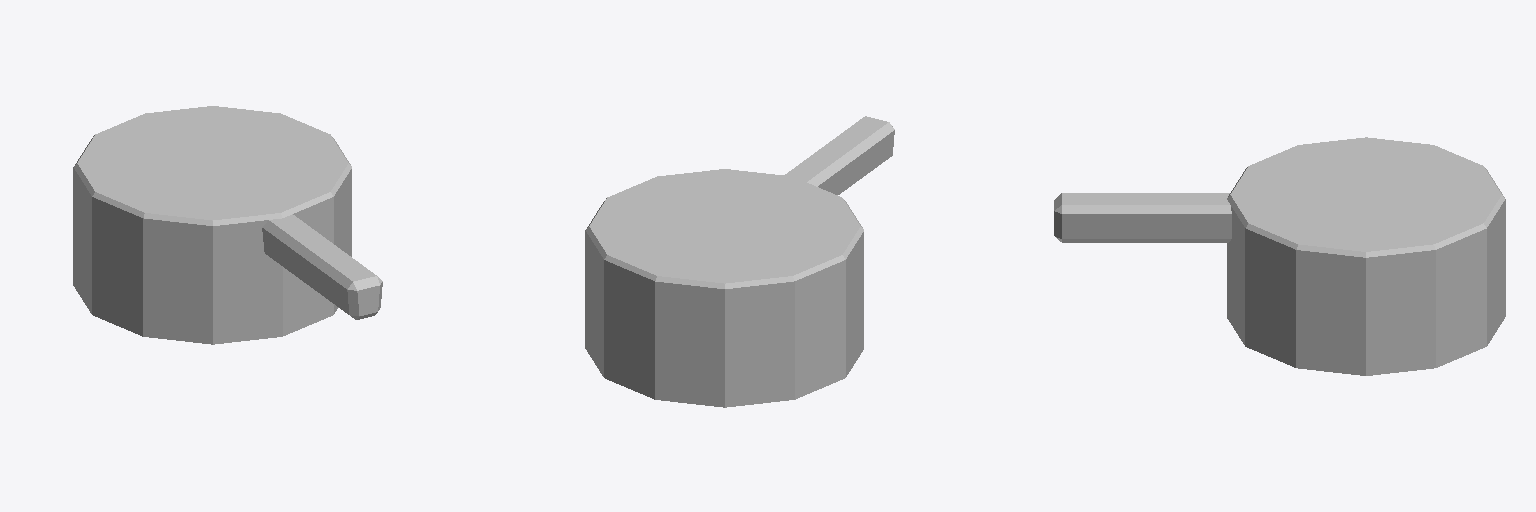
3 renders of one model, left to right at view 1: azimuth 30°, elevation 25°; view 2: azimuth 150°, elevation 25°; view 3: azimuth 270°, elevation 25°, orthographic.
Parts seen in each view (by area): view 1: part14:faucet handle 1; view 2: part14:faucet handle 1; view 3: part14:faucet handle 1.
Boxes of the visible parts, x1,y1,x2,y2 form: part14:faucet handle 1: [73, 106, 382, 344]; part14:faucet handle 1: [585, 116, 894, 407]; part14:faucet handle 1: [1054, 137, 1505, 375].
Size of the model in its own units: 0.0571 by 0.0277 by 0.0924.